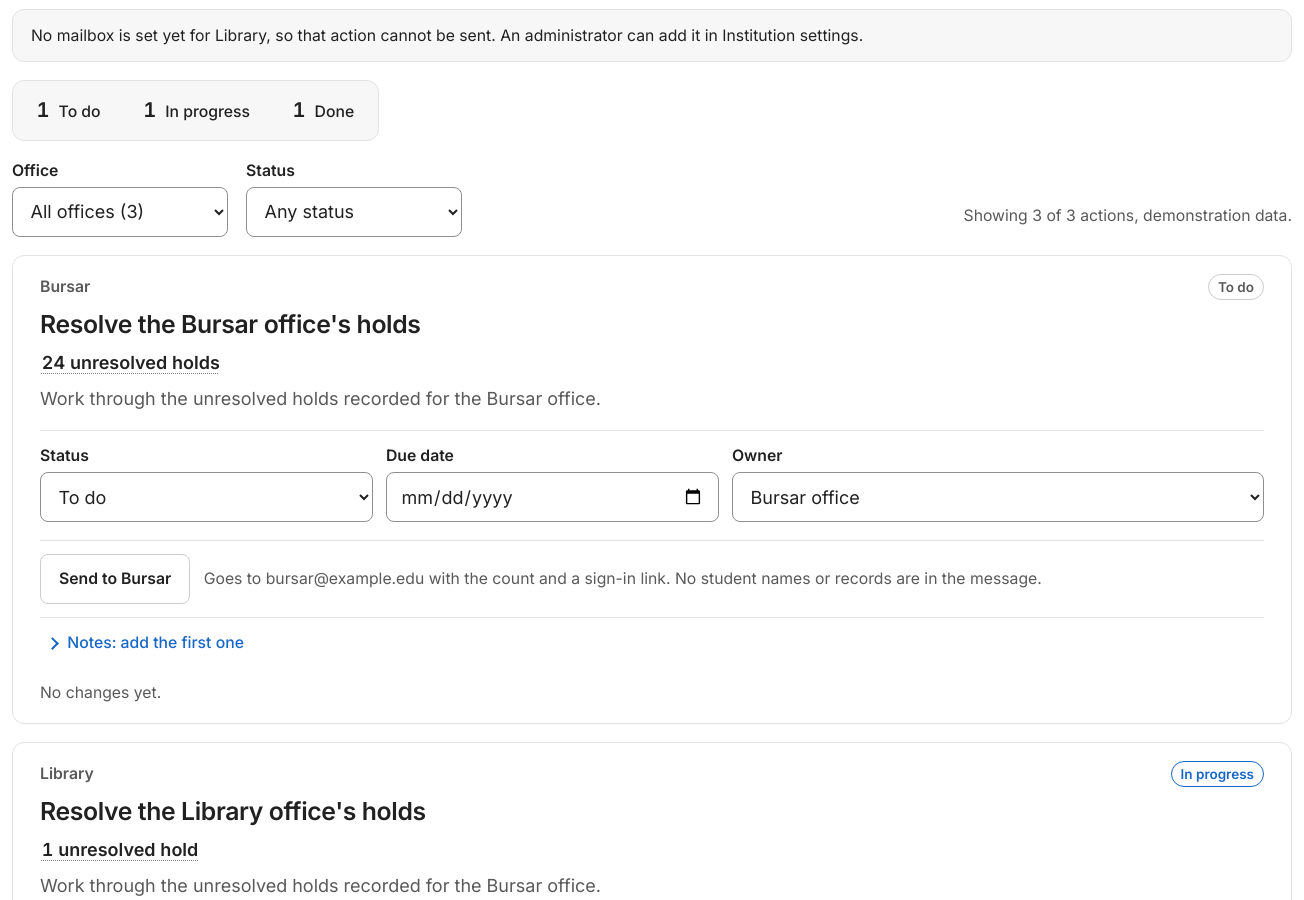
Test: Staff actions page › shows a failed send plainly, with Retry
Expected: the element "Resolve the Bursar office's holds" is shown, [12, 255, 1292, 724]
Click the button "Send to Bursar" at (115, 579), box [40, 554, 190, 604]
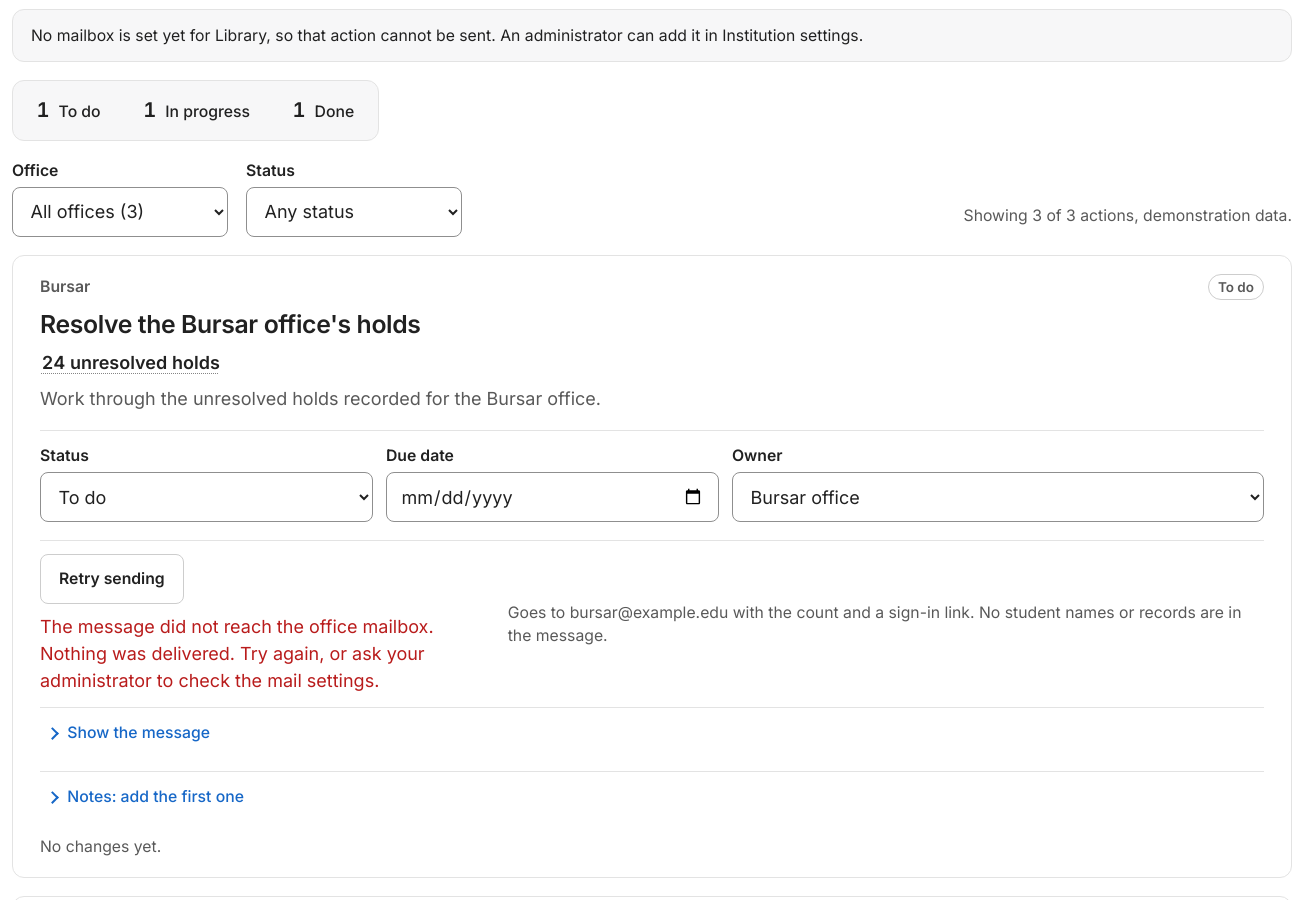
Now the button "Retry sending" is shown, box [40, 554, 184, 604]
Now the element "Resolve the Bursar office's holds" shows "The message did not reach the office mailbox. Nothing was delivered.", box [40, 616, 434, 691]
